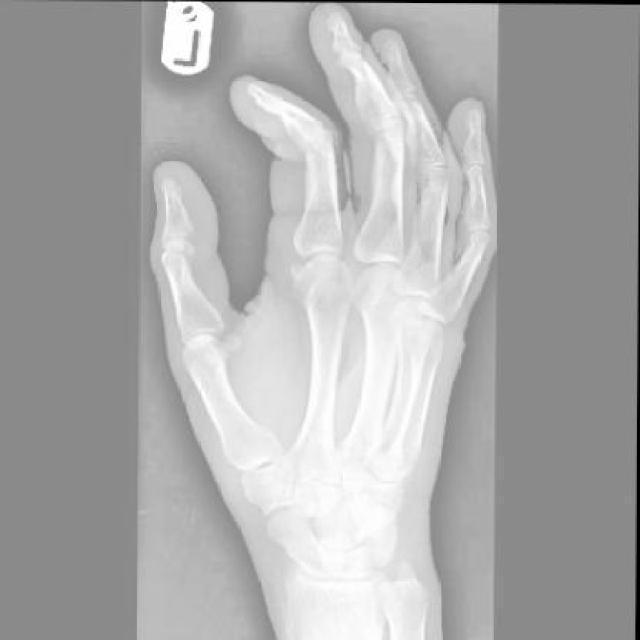Fracture: (365, 514, 402, 556)
